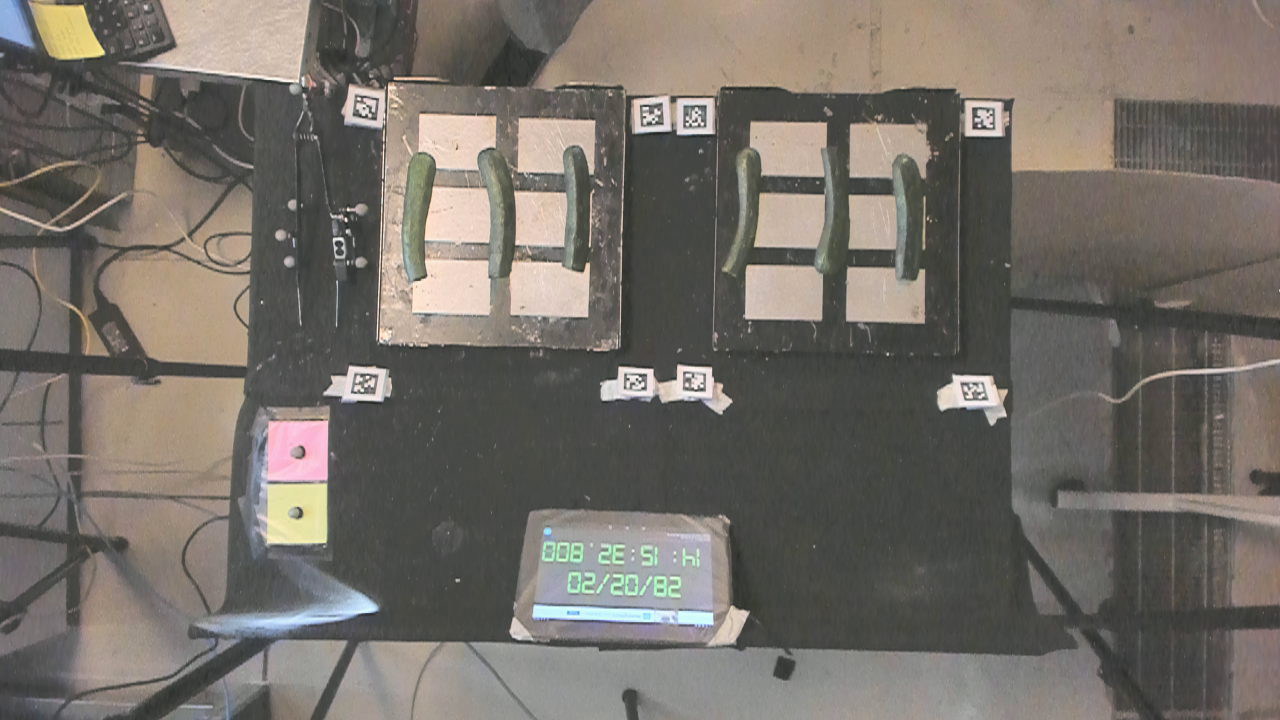marker: (267, 419, 329, 480)
zucchini: (476, 137, 521, 285), (718, 146, 763, 281), (553, 136, 591, 273), (813, 141, 849, 279), (886, 150, 920, 284), (405, 148, 437, 283)
